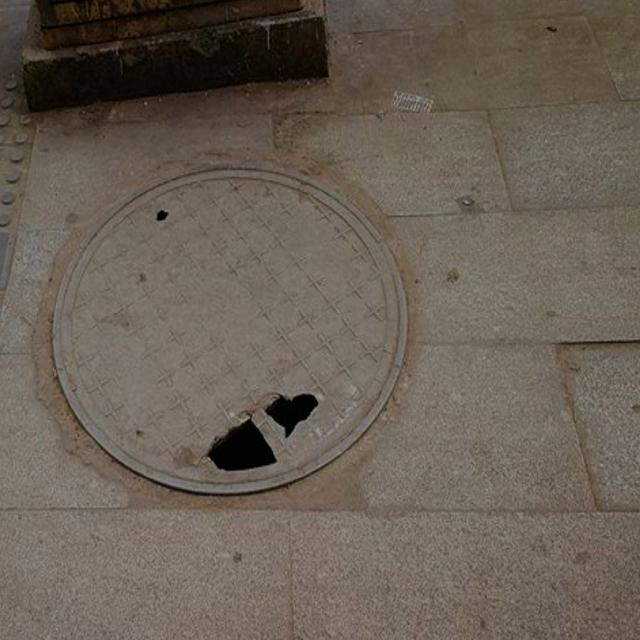broke: (52, 160, 407, 494)
